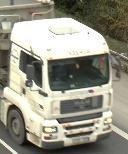Truck: (0, 0, 113, 149)
